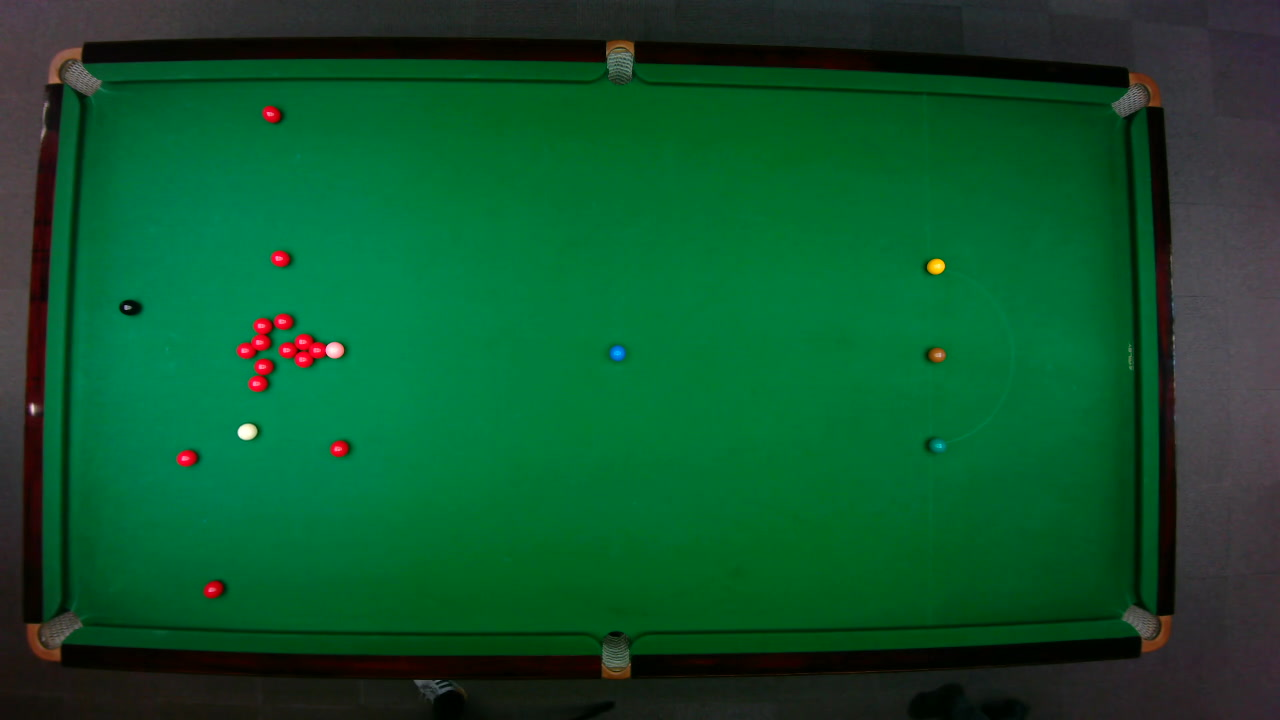bag: (25, 609, 83, 661), (46, 46, 102, 96), (1119, 603, 1171, 652), (1108, 71, 1161, 117), (600, 629, 629, 680), (605, 38, 633, 85)
black: (118, 298, 140, 315)
blue: (607, 343, 626, 361)
brown: (926, 346, 946, 362)
green: (927, 435, 946, 453)
pink: (323, 340, 345, 359)
red: (202, 578, 224, 599), (175, 448, 197, 466), (246, 374, 268, 392), (329, 439, 349, 458), (272, 312, 293, 330), (251, 316, 272, 334), (269, 249, 290, 267), (252, 357, 274, 374), (292, 350, 314, 367), (261, 105, 281, 123), (249, 333, 270, 350), (235, 341, 256, 358), (277, 341, 297, 358), (293, 332, 313, 349), (308, 340, 325, 358)
white: (235, 421, 258, 440)
yellow: (925, 257, 946, 274)
zone: (927, 265, 1013, 445)
